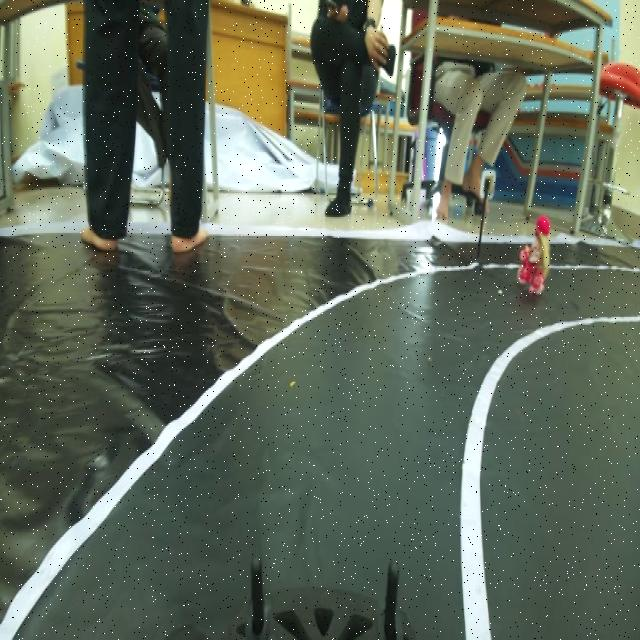pedestrian: (518, 202, 558, 313)
